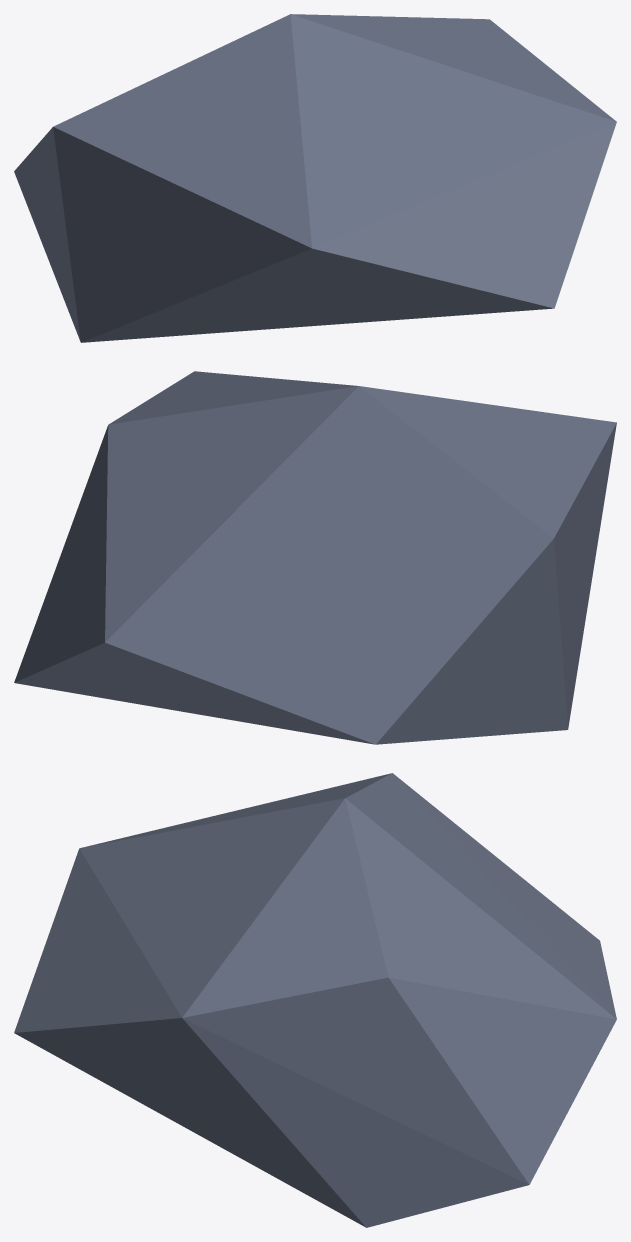
File: RockMesh.fbx
The picture shows the model from 3 angles, top to bottom: view 1: azimuth 30°, elevation 25°; view 2: azimuth 150°, elevation 25°; view 3: azimuth 270°, elevation 25°; orthographic projection. The views are drawn at different scales.
Parts seen in each view (by area): view 1: Rocks.001; view 2: Rocks.001; view 3: Rocks.001.
Part boxes in pixels (box(x1,y1,x2,y2)): Rocks.001: box(14, 14, 616, 342); Rocks.001: box(14, 371, 616, 744); Rocks.001: box(14, 773, 616, 1227).
Bounding box in the file's own units: 0.3497 × 0.2277 × 0.4017.
